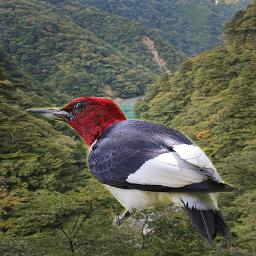Woodpecker: (26, 97, 240, 249)
